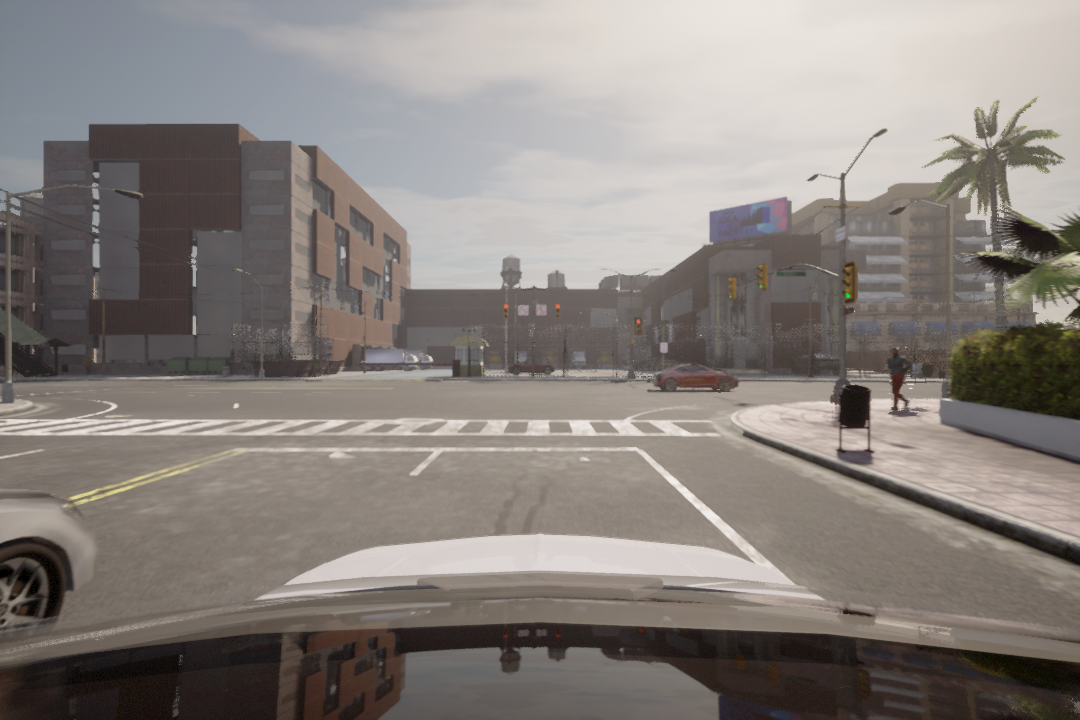TrafficLight: (840, 264, 858, 304), (756, 262, 771, 290), (724, 277, 737, 298), (551, 304, 563, 322), (502, 301, 510, 321), (634, 316, 641, 338)
walkside: (3, 416, 734, 447)
